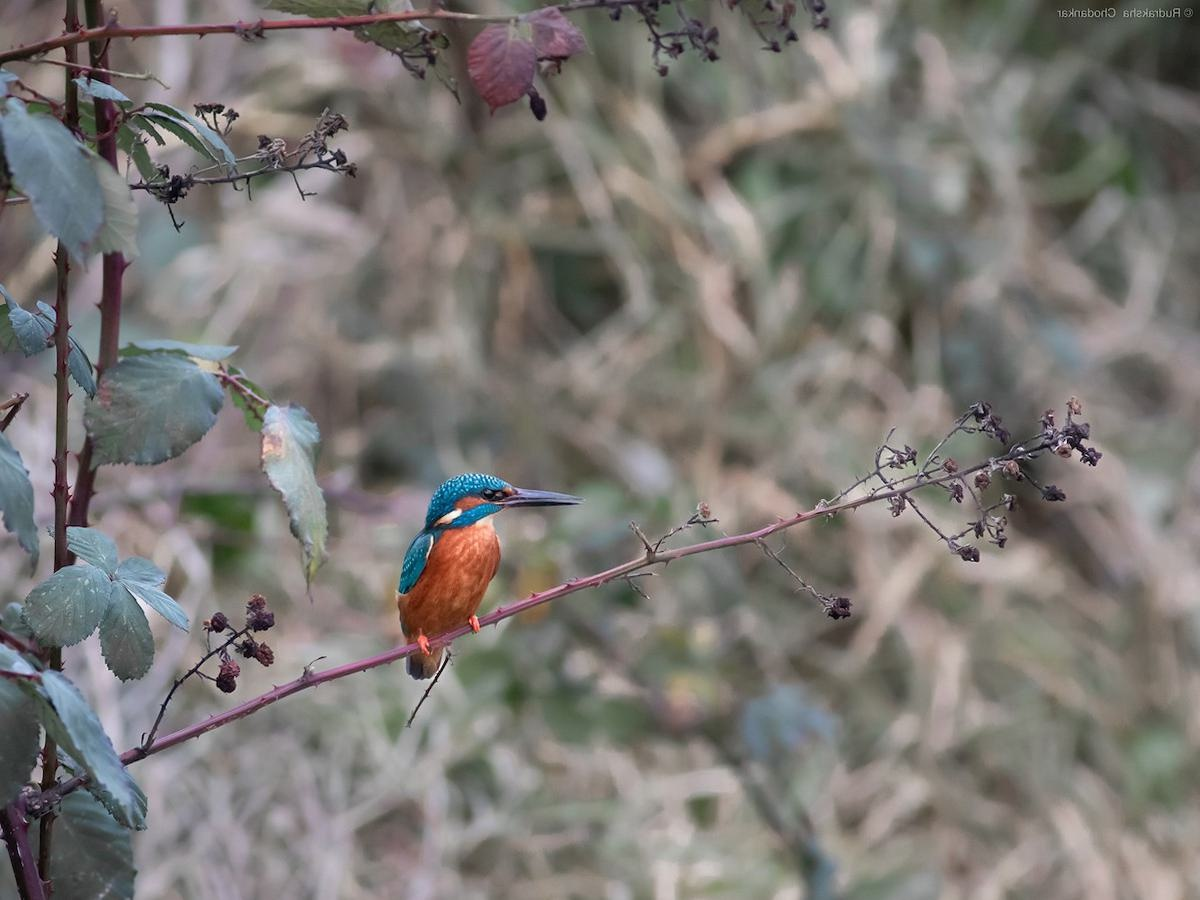kingfisher: (375, 445, 601, 703)
